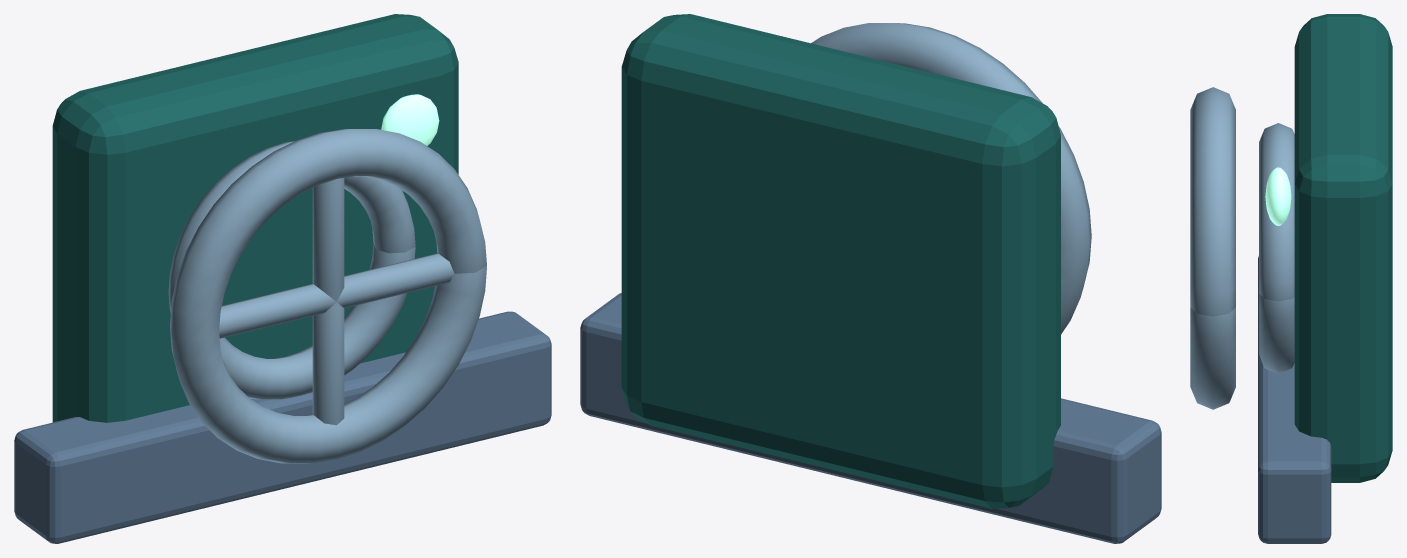
Rendered from cabinet_lock_heavy.glb.
The picture shows the model from 3 angles, left to right: view 1: azimuth 30°, elevation 25°; view 2: azimuth 150°, elevation 25°; view 3: azimuth 270°, elevation 25°; orthographic projection. The views are drawn at different scales.
Parts seen in each view (by area): view 1: Reinforced_lock, Heavy_wheel, Heavy_reinforcement, Dial, Wheel_spoke.003, Wheel_spoke.001, Wheel_spoke, Wheel_spoke.002, LED; view 2: Reinforced_lock, Heavy_reinforcement, Heavy_wheel; view 3: Reinforced_lock, Heavy_wheel, Heavy_reinforcement, Dial, LED.
Part boxes in pixels (x1=…): Reinforced_lock: x1=52, y1=14, x2=458, y2=422; Heavy_wheel: x1=170, y1=129, x2=486, y2=463; Heavy_reinforcement: x1=14, y1=311, x2=551, y2=543; Dial: x1=168, y1=141, x2=415, y2=399; Wheel_spoke.003: x1=312, y1=302, x2=344, y2=425; Wheel_spoke.001: x1=312, y1=178, x2=344, y2=301; Wheel_spoke: x1=337, y1=253, x2=454, y2=308; Wheel_spoke.002: x1=219, y1=284, x2=336, y2=338; LED: x1=381, y1=94, x2=439, y2=145; Reinforced_lock: x1=621, y1=14, x2=1060, y2=508; Heavy_reinforcement: x1=580, y1=293, x2=1161, y2=543; Heavy_wheel: x1=811, y1=23, x2=1091, y2=334; Reinforced_lock: x1=1294, y1=14, x2=1392, y2=482; Heavy_wheel: x1=1190, y1=87, x2=1235, y2=409; Heavy_reinforcement: x1=1258, y1=256, x2=1331, y2=543; Dial: x1=1259, y1=123, x2=1294, y2=373; LED: x1=1265, y1=167, x2=1291, y2=225.
Bounding box in the file's own units: 0.32 × 0.2375 × 0.124.
